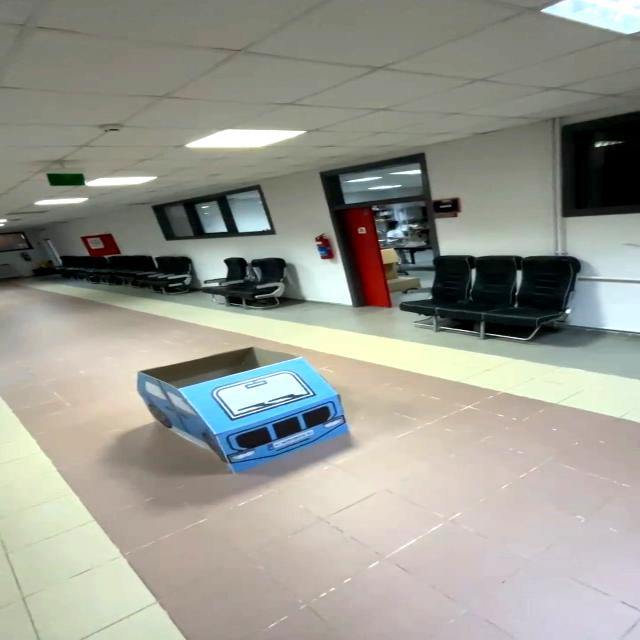blue_car: (116, 332, 381, 498)
